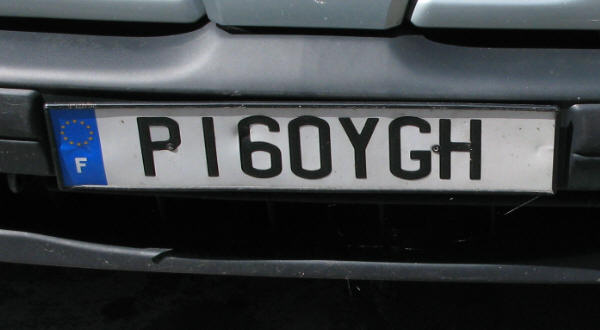license_plate: (45, 103, 558, 196)
